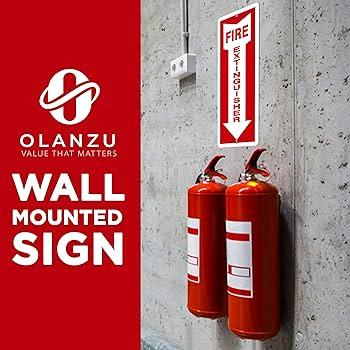wall-mounted: (175, 145, 295, 346)
